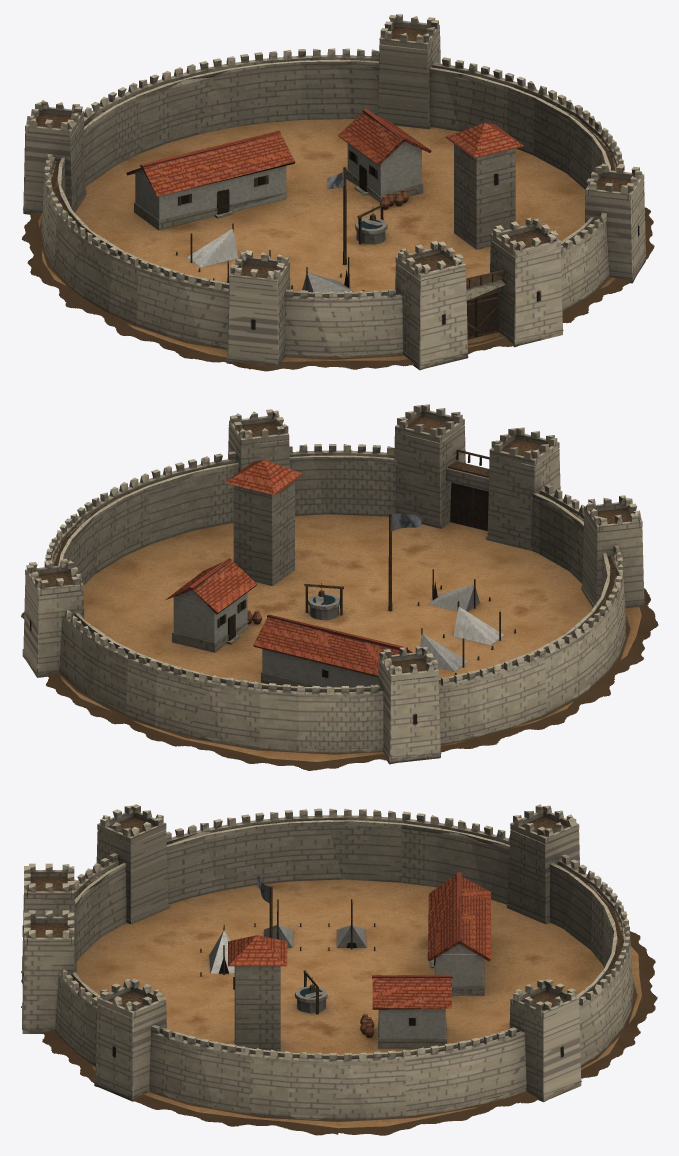
The model's file is fort-classical-63dcde94.glb.
3 renders of one model, top to bottom at view 1: azimuth 30°, elevation 25°; view 2: azimuth 150°, elevation 25°; view 3: azimuth 270°, elevation 25°, orthographic.
Visible parts, largest first — view 1: LOD0; view 2: LOD0; view 3: LOD0.
Part boxes in pixels (x1=…): LOD0: x1=22, y1=14, x2=654, y2=371; LOD0: x1=21, y1=404, x2=658, y2=770; LOD0: x1=21, y1=804, x2=657, y2=1135.
Size of what is drawn, in the model's own units: 4.91 by 0.9701 by 4.84.
Materials: 3 (3 with a texture image).
